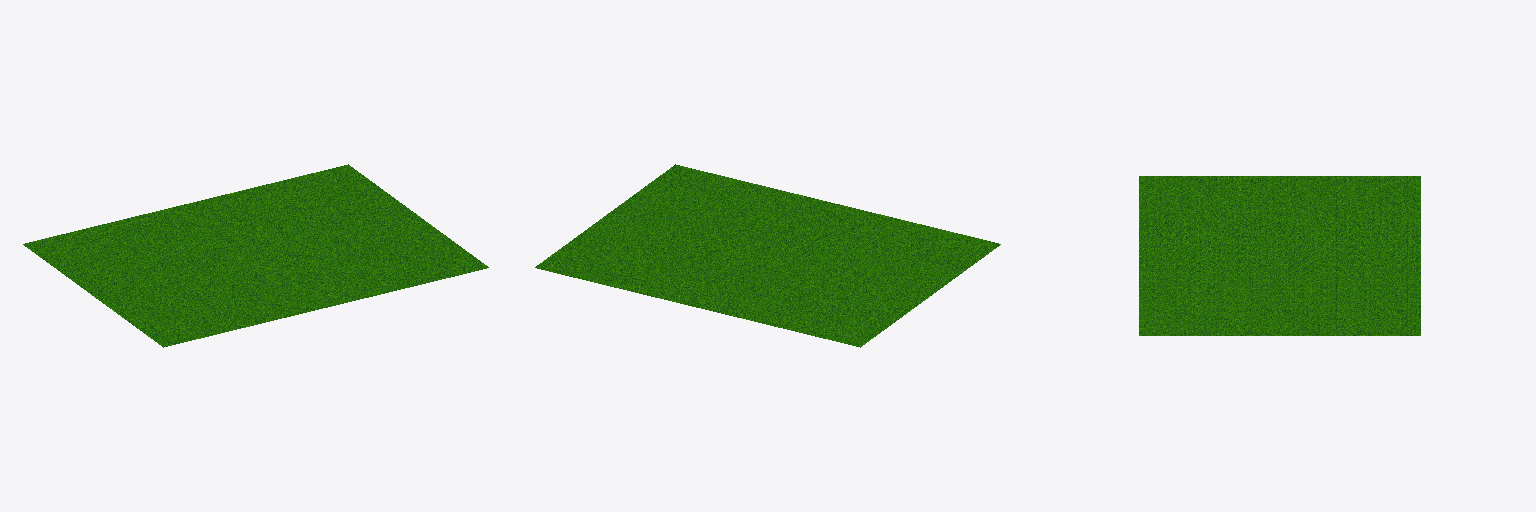
3 renders of one model, left to right at view 1: azimuth 30°, elevation 25°; view 2: azimuth 150°, elevation 25°; view 3: azimuth 270°, elevation 25°, orthographic.
Parts seen in each view (by area): view 1: pPlane1; view 2: pPlane1; view 3: pPlane1.
Part boxes in pixels (x1,y1,x2,y2): pPlane1: (23,164,488,347); pPlane1: (535,164,1000,347); pPlane1: (1139,176,1420,335).
Size of the model in its own units: 200 by 0 by 150.
4 materials, 1 textured.